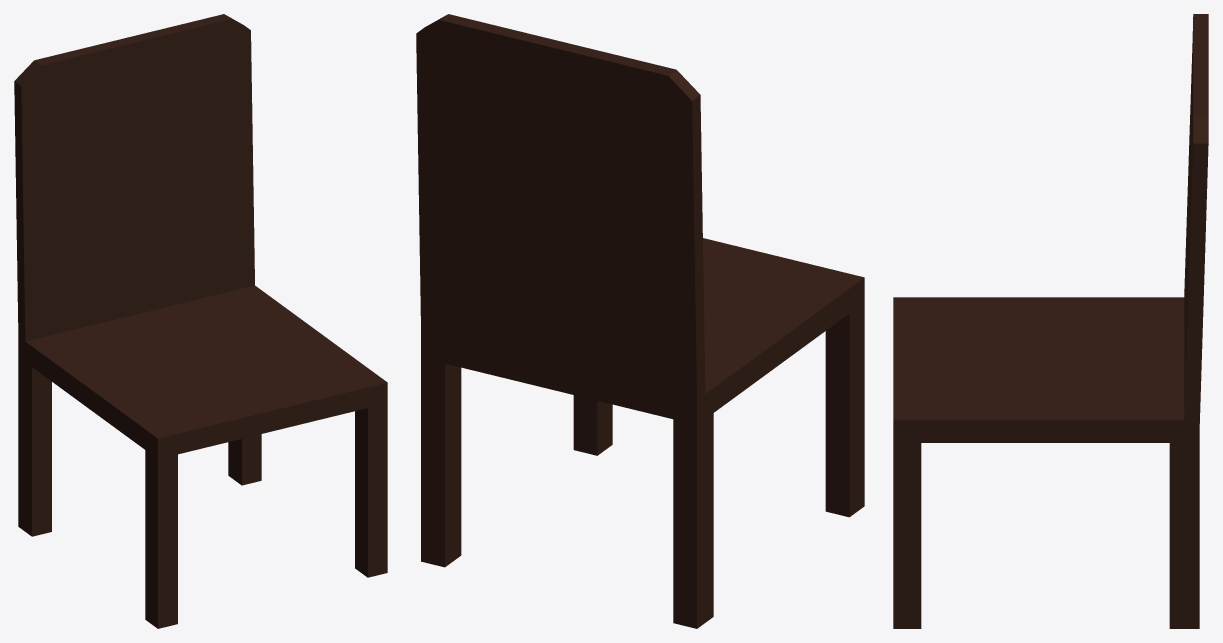
File: generic darkwood chair.fbx
3 renders of one model, left to right at view 1: azimuth 30°, elevation 25°; view 2: azimuth 150°, elevation 25°; view 3: azimuth 270°, elevation 25°, orthographic. The views are drawn at different scales.
Visible parts, largest first — view 1: Cube; view 2: Cube; view 3: Cube.
Boxes of the visible parts, left/top/right/bottom form: Cube: left=14, top=14, right=387, bottom=628; Cube: left=416, top=14, right=864, bottom=628; Cube: left=893, top=14, right=1208, bottom=628.
Size of the model in its own units: 60.99 by 116 by 66.1.
